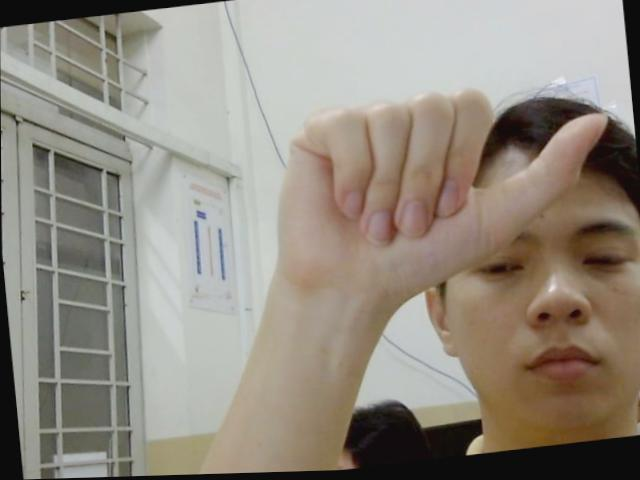A: (273, 71, 621, 297)
